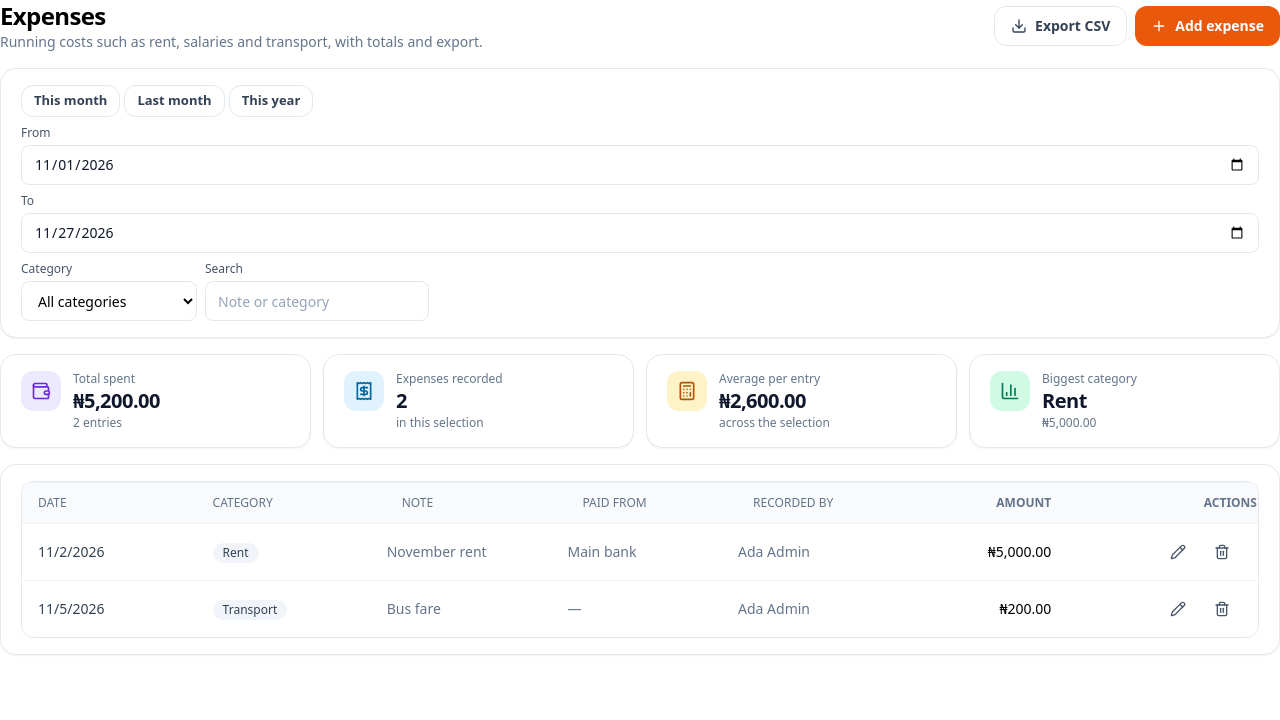
Test: ExpensesPage › edits an existing expense
The width and height of the screenshot is (1280, 720).
Later steps or results of the test are not shown.
Expected: the text "November rent" is shown, [386,524,566,580]
Click the button named "Edit Rent expense": (1178,552) [1158,536,1198,568]
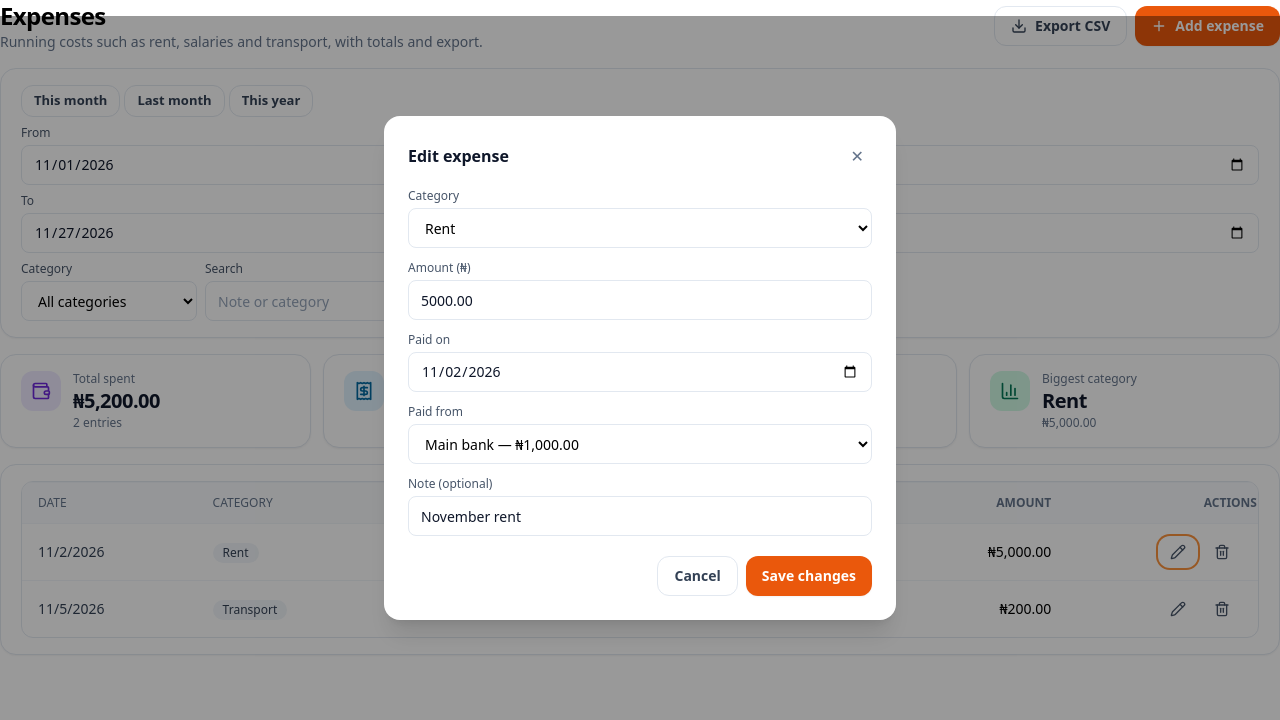
Now the heading "Edit expense" is shown, box [408,144,509,168]
